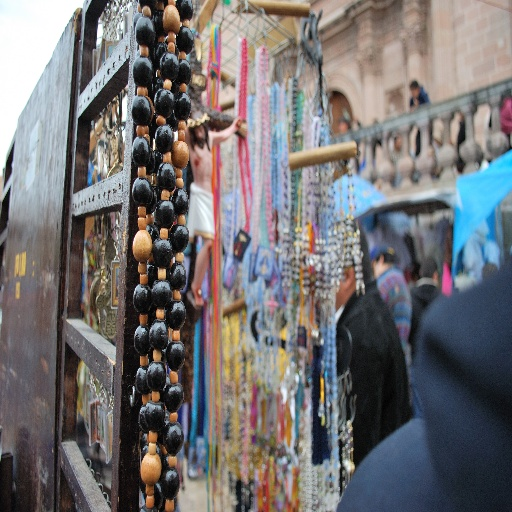hand: (232, 115, 243, 133), (411, 96, 418, 108)
